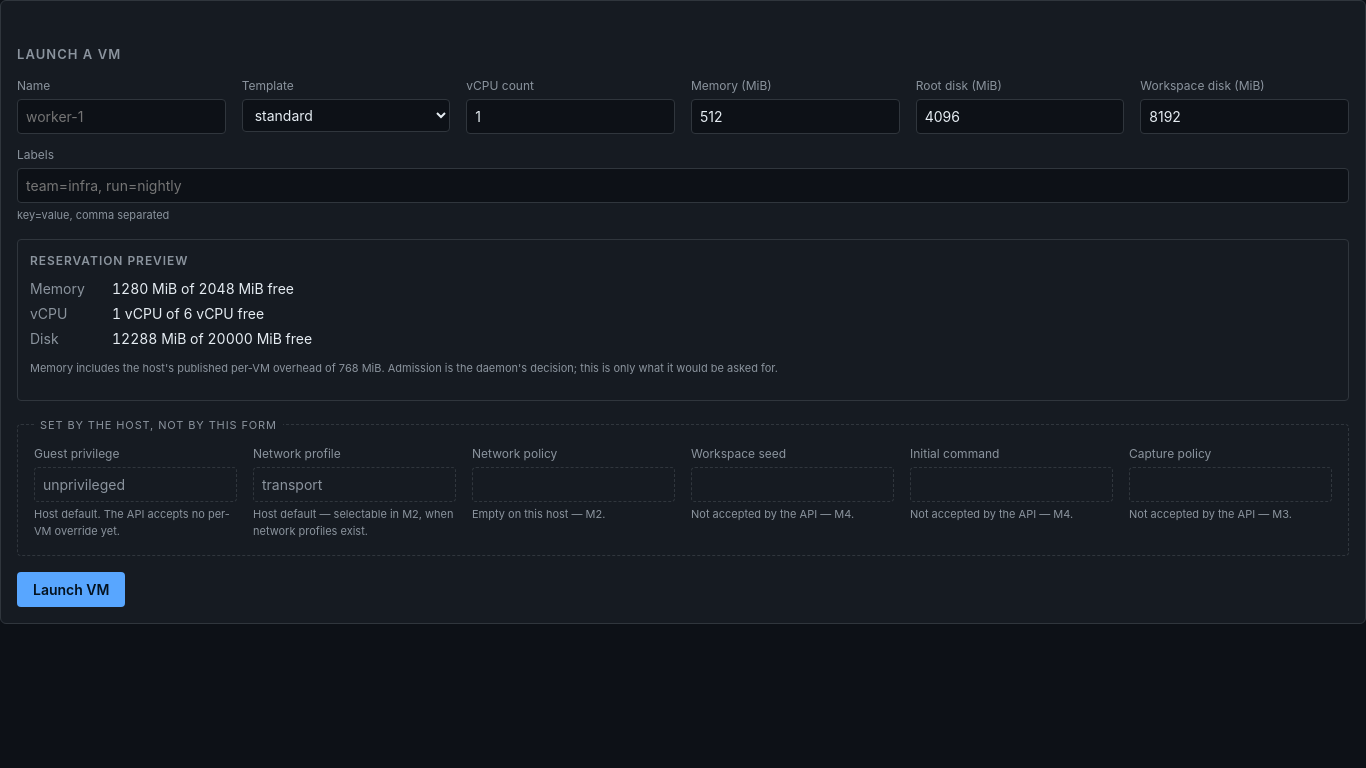
Scenario: LaunchForm submit › renders the typed refusal in full — message, cause and every remediation
Click the button "Launch VM".
click(71, 590)  # box [17,572,126,607]
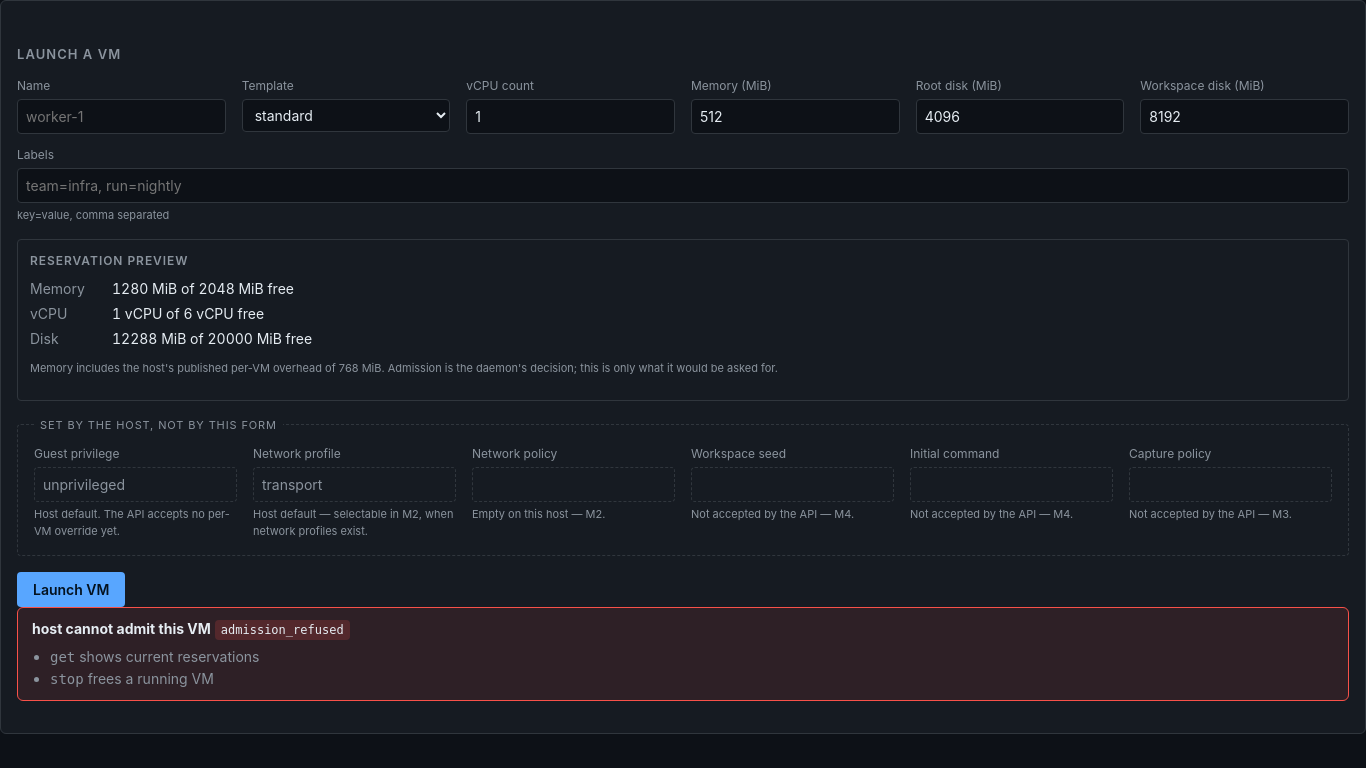
Result: the message shows "host cannot admit this VM" at [32,620,211,637]
Result: the message shows "admission_refused" at [221,623,344,637]
Result: the message shows "shows current reservations" at [79,648,260,665]
